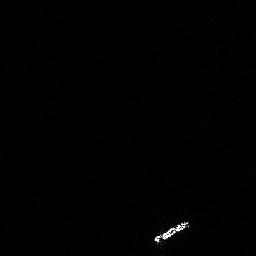ship: (154, 220, 190, 243)
